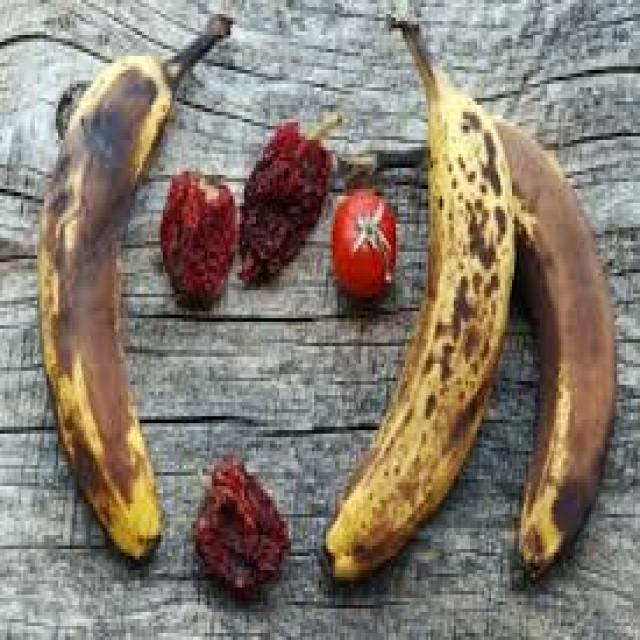organic waste: (338, 105, 614, 584), (35, 11, 230, 556), (321, 18, 512, 574), (235, 116, 342, 290), (191, 454, 288, 594), (156, 164, 235, 308), (331, 185, 394, 298)
